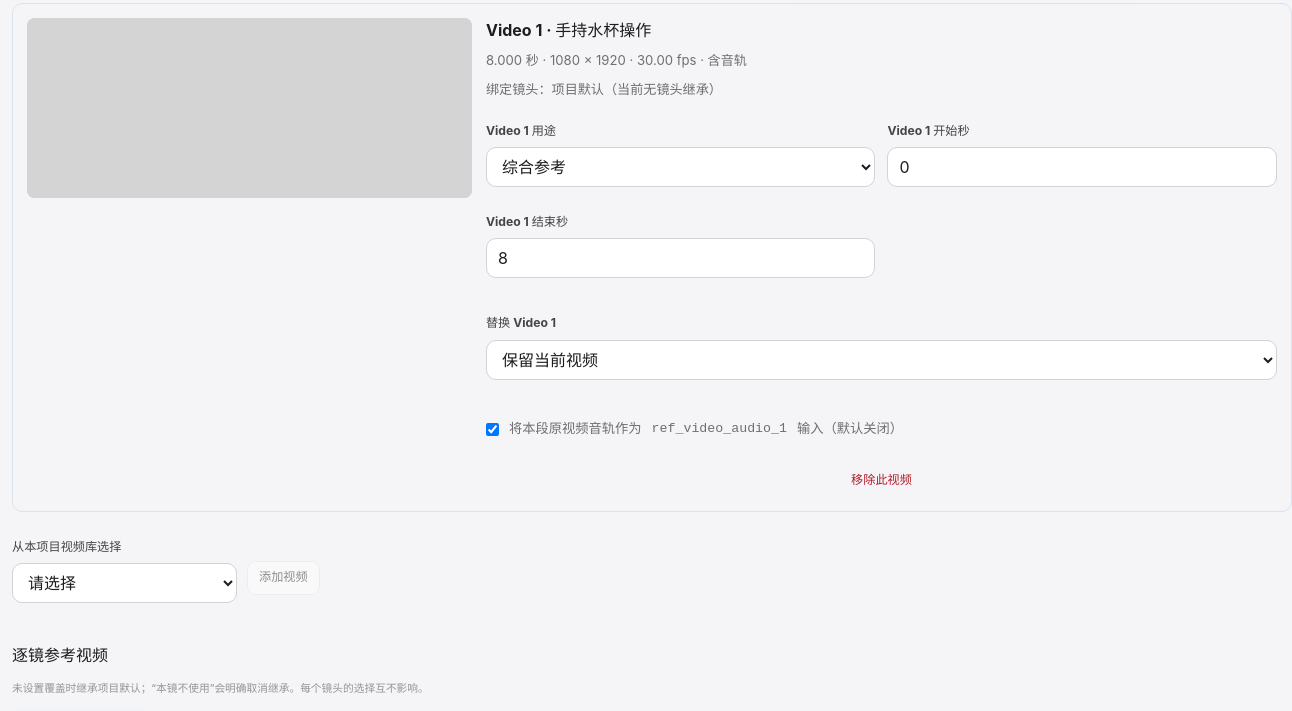
Test: replaces a selected source with a fresh native-video snapshot instead of reusing its revision or audio setting
(page scrolled)
Check: the text "Video 1 · 手持水杯操作" is shown, box [486,20,651,40]
Select "车灯夜骑跟拍 · 120.00 秒" in the dropdown labelled "替换 Video 1" at (882, 360), box [486,340,1277,380]
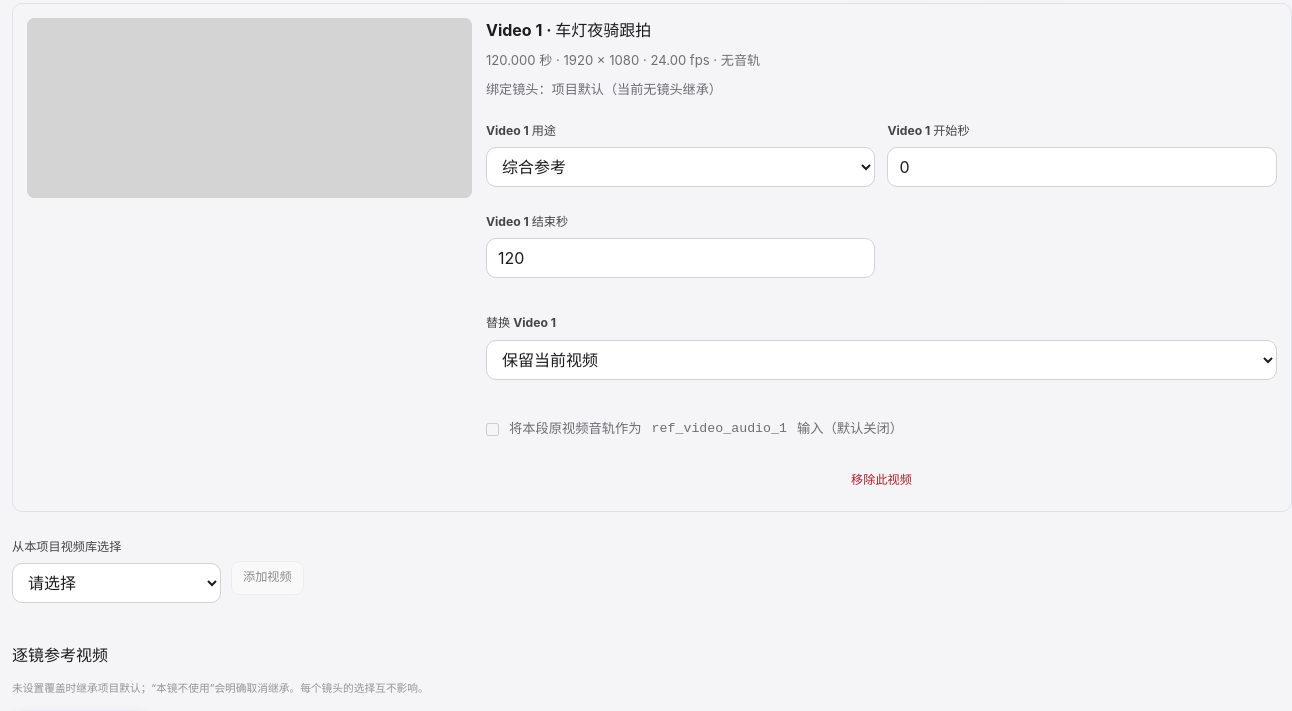
Check: the text "Video 1 · 车灯夜骑跟拍" is shown, box [486,20,651,40]
Check: the checkbox labelled "将本段原视频音轨作为 ref_video_audio_1 输入（默认关闭）" is not checked, box [486,423,499,436]
Check: the number field labelled "Video 1 结束秒" holds "120", box [486,238,876,278]
